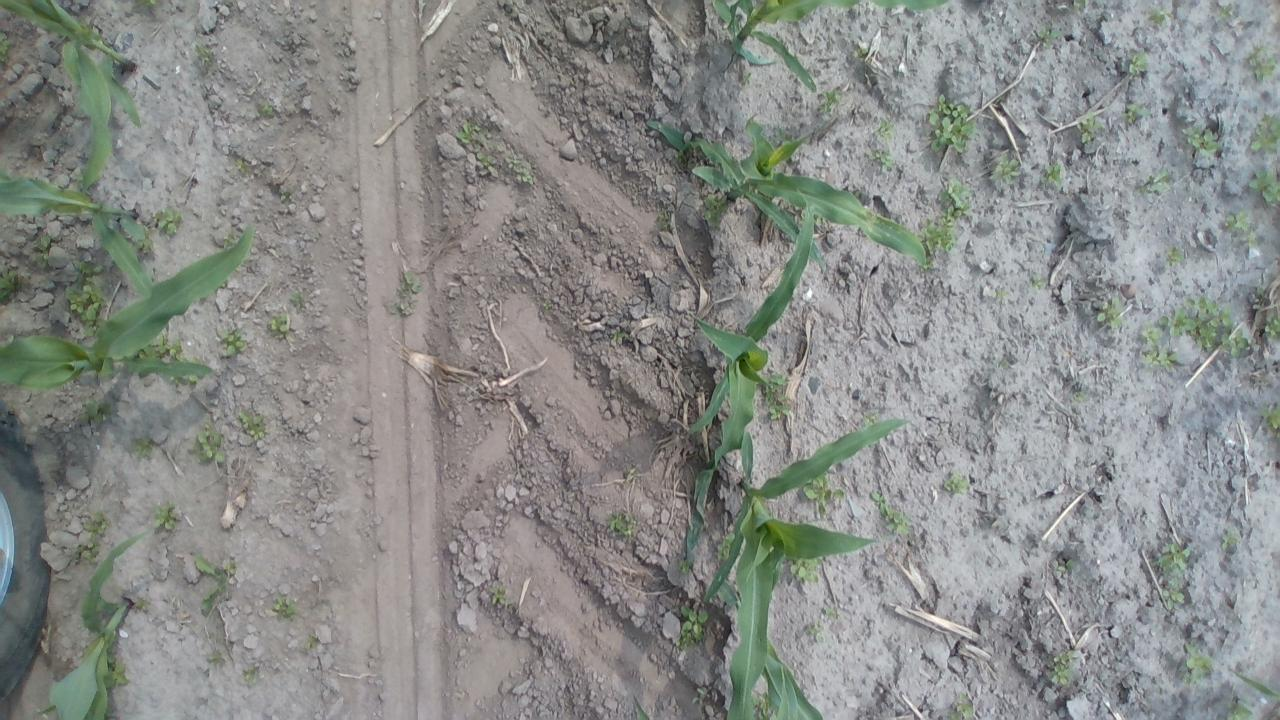Maize: (698, 417, 912, 720), (682, 197, 816, 554), (644, 112, 935, 270), (0, 222, 258, 390), (0, 0, 150, 191), (2, 170, 158, 312), (706, 0, 952, 87), (48, 525, 154, 720), (718, 578, 828, 720), (1223, 662, 1280, 712)
Weeds: (1164, 295, 1252, 357), (453, 122, 534, 187), (919, 180, 970, 256), (926, 93, 978, 156), (66, 255, 108, 333), (190, 552, 238, 615), (868, 489, 911, 532), (188, 420, 228, 466), (802, 472, 842, 514), (1140, 328, 1177, 372), (76, 514, 109, 558), (1222, 208, 1260, 246), (1153, 542, 1193, 578), (679, 603, 710, 649), (144, 334, 188, 364), (1246, 45, 1280, 83), (1183, 647, 1216, 684), (1184, 124, 1222, 156), (1250, 114, 1280, 154), (1096, 292, 1126, 332), (395, 269, 421, 315), (150, 204, 186, 237), (236, 408, 270, 442), (1249, 169, 1280, 206), (1048, 648, 1076, 688), (1136, 167, 1172, 196), (699, 189, 727, 226), (1158, 582, 1190, 613), (606, 510, 638, 540), (1076, 109, 1102, 145), (105, 649, 128, 689), (80, 396, 112, 424), (994, 150, 1020, 184), (791, 554, 820, 583), (221, 326, 249, 356), (762, 372, 788, 404), (270, 594, 298, 622), (948, 692, 978, 718), (267, 311, 293, 340), (33, 233, 55, 267), (868, 146, 896, 172), (1041, 160, 1066, 188), (0, 268, 19, 304), (130, 435, 157, 460), (1126, 50, 1150, 78), (153, 501, 177, 529), (1261, 405, 1280, 438), (942, 470, 968, 494), (752, 696, 779, 719), (1224, 702, 1258, 720), (1122, 101, 1148, 124), (180, 357, 202, 384), (820, 89, 842, 116), (874, 118, 898, 142), (132, 231, 156, 254), (1146, 8, 1172, 29), (193, 42, 213, 68), (1036, 26, 1060, 47), (1262, 313, 1280, 341), (206, 646, 228, 668), (767, 400, 791, 420), (242, 662, 262, 684), (850, 42, 870, 63), (302, 629, 320, 652), (290, 289, 308, 312), (1055, 558, 1075, 578), (1222, 529, 1240, 551), (718, 530, 732, 558), (492, 585, 508, 608), (1166, 246, 1184, 266), (0, 32, 12, 62), (809, 625, 824, 648), (608, 327, 628, 344), (657, 208, 673, 229), (278, 185, 296, 202), (1218, 4, 1236, 21), (993, 286, 1012, 302), (256, 103, 275, 119), (1030, 274, 1046, 292), (774, 126, 790, 144), (694, 686, 712, 702), (677, 558, 693, 576), (821, 604, 839, 620), (236, 158, 250, 176), (864, 412, 880, 427), (1072, 390, 1088, 404), (672, 148, 686, 162), (134, 598, 148, 612), (138, 0, 159, 9), (626, 466, 637, 483), (739, 72, 752, 86), (542, 300, 554, 312), (1074, 0, 1088, 9)
